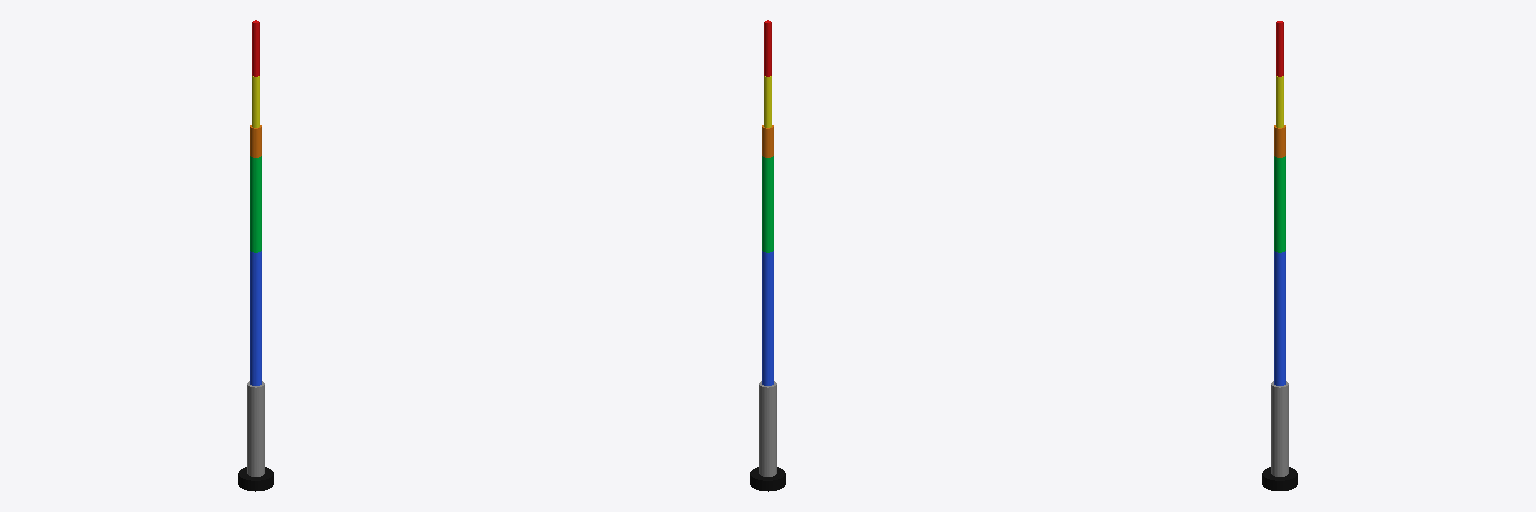
URDF robot description (robot_arm):
<?xml version="1.0"?>
<robot name="robot_arm">

  <!-- Base Link -->
  <link name="base_link">
    <visual>
      <geometry>
        <cylinder radius="30" length="20"/>
      </geometry>
      <origin xyz="0 0 10" rpy="0 0 0"/>
      <material name="black">
        <color rgba="0.1 0.1 0.1 1.0"/>
      </material>
    </visual>
  </link>

  <!-- Joint 1 -->
  <joint name="joint1" type="revolute">
    <parent link="base_link"/>
    <child link="link1"/>
    <origin xyz="0 0 20" rpy="0 0 0"/>
    <axis xyz="0 0 1"/>
    <limit lower="0" upper="3.14159" effort="5" velocity="1.0"/>
  </joint>

  <link name="link1">
    <visual>
      <geometry>
        <cylinder radius="15" length="167.719"/>
      </geometry>
      <origin xyz="0 0 83.8595" rpy="0 0 0"/>
      <material name="grey">
        <color rgba="0.6 0.6 0.6 1.0"/>
      </material>
    </visual>
  </link>

  <!-- Joint 2: lower arm -->
  <joint name="joint2" type="revolute">
    <parent link="link1"/>
    <child link="link2"/>
    <origin xyz="0 0 167.719" rpy="0 0 0"/>
    <axis xyz="0 1 0"/>
    <limit lower="-1.570795" upper="1.570795" effort="5" velocity="1.0"/>
  </joint>

  <link name="link2">
    <visual>
      <geometry>
        <cylinder radius="10" length="250.201"/>
      </geometry>
      <origin xyz="0 0 125.1005" rpy="0 0 0"/>
      <material name="blue">
        <color rgba="0.2 0.4 1.0 1.0"/>
      </material>
    </visual>
  </link>

  <!-- Joint 3: upper arm -->
  <joint name="joint3" type="revolute">
    <parent link="link2"/>
    <child link="link3"/>
    <origin xyz="0 0 250.201" rpy="0 0 0"/>
    <axis xyz="0 1 0"/>
    <limit lower="-2.356195" upper="2.356195" effort="5" velocity="1.0"/>
  </joint>

  <link name="link3">
    <visual>
      <geometry>
        <cylinder radius="10" length="177.485"/>
      </geometry>
      <origin xyz="0 0 88.7425" rpy="0 0 0"/>
      <material name="green">
        <color rgba="0.0 0.8 0.3 1.0"/>
      </material>
    </visual>
  </link>

  <!-- Joint 4 : Wrist -->
  <joint name="joint4" type="revolute">
    <parent link="link3"/>
    <child link="link4"/>
    <origin xyz="0 0 177.485" rpy="0 0 0"/>
    <axis xyz="0 0 1"/>
    <limit lower="-3.14159" upper="3.14159" effort="5" velocity="1.0"/>
  </joint>

  <link name="link4">
    <visual>
      <geometry>
        <cylinder radius="10" length="54.70"/>
      </geometry>
      <origin xyz="0 0 27.35" rpy="0 0 0"/>
      <material name="orange">
        <color rgba="0.9 0.5 0.1 1.0"/>
      </material>
    </visual>
  </link>

  <!-- Joint 5 -->
  <joint name="joint5" type="revolute">
    <parent link="link4"/>
    <child link="link5"/>
    <origin xyz="0 0 54.70" rpy="0 0 0"/>
    <axis xyz="0 1 0"/>
    <limit lower="-2.356195" upper="2.356195" effort="5" velocity="1.0"/>
  </joint>

  <link name="link5">
    <visual>
      <geometry>
        <cylinder radius="7" length="95.069"/>
      </geometry>
      <origin xyz="0 0 47.5345" rpy="0 0 0"/>
      <material name="yellow">
        <color rgba="0.9 0.9 0.1 1.0"/>
      </material>
    </visual>
  </link>

  <!-- Joint 6 -->
  <joint name="joint6" type="revolute">
    <parent link="link5"/>
    <child link="link6"/>
    <origin xyz="0 0 95.069" rpy="0 0 0"/>
    <axis xyz="1 0 0"/>
    <limit lower="-3.14159" upper="3.14159" effort="5" velocity="1.0"/>
  </joint>

  <link name="link6">
    <visual>
      <geometry>
        <cylinder radius="6" length="100"/>
      </geometry>
      <origin xyz="0 0 50" rpy="0 0 0"/>
      <material name="red">
        <color rgba="0.9 0.1 0.1 1.0"/>
      </material>
    </visual>
  </link>

</robot>

--- Facts derived from the render (not from the file) ---
The picture shows the robot from 3 angles, left to right: view 1: azimuth 30°, elevation 25°; view 2: azimuth 150°, elevation 25°; view 3: azimuth 270°, elevation 25°; orthographic projection.
Robot: robot_arm — 7 links, 6 joints (6 revolute); root link base_link; default pose: every joint at zero.
Links seen in each view (by area): view 1: link1, link2, link3, base_link; view 2: link1, link2, link3, base_link; view 3: link1, link2, link3, base_link.
Boxes of the visible links, <box> form: link1: <box>247,381,264,476</box>; link2: <box>250,251,261,385</box>; link3: <box>250,156,261,252</box>; base_link: <box>238,467,273,491</box>; link1: <box>759,381,776,476</box>; link2: <box>762,251,773,385</box>; link3: <box>762,156,773,252</box>; base_link: <box>750,467,785,491</box>; link1: <box>1271,381,1288,476</box>; link2: <box>1274,251,1285,385</box>; link3: <box>1274,156,1285,252</box>; base_link: <box>1262,467,1297,490</box>.
Size in the robot's own frame: 60 by 60 by 865 metres.
Geometry: primitives only (box / cylinder / sphere), no mesh files.
